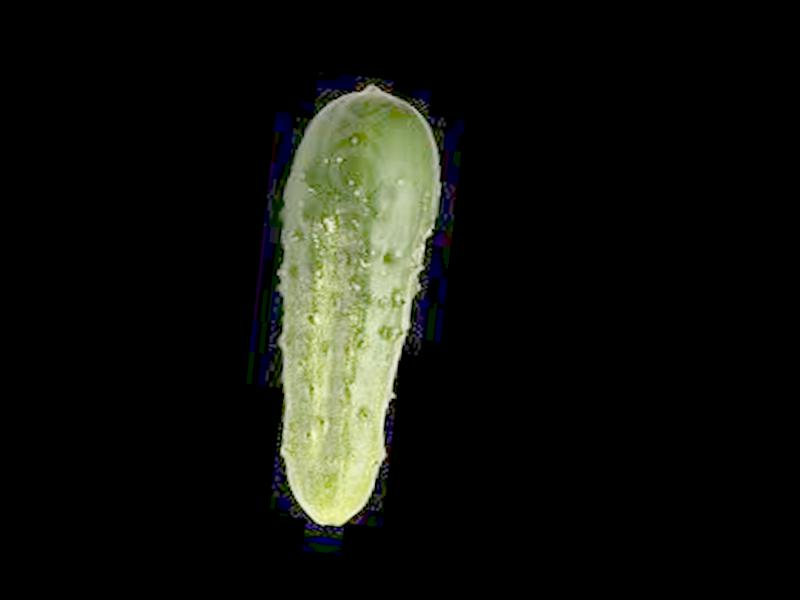Cucumber: (245, 77, 450, 532)
